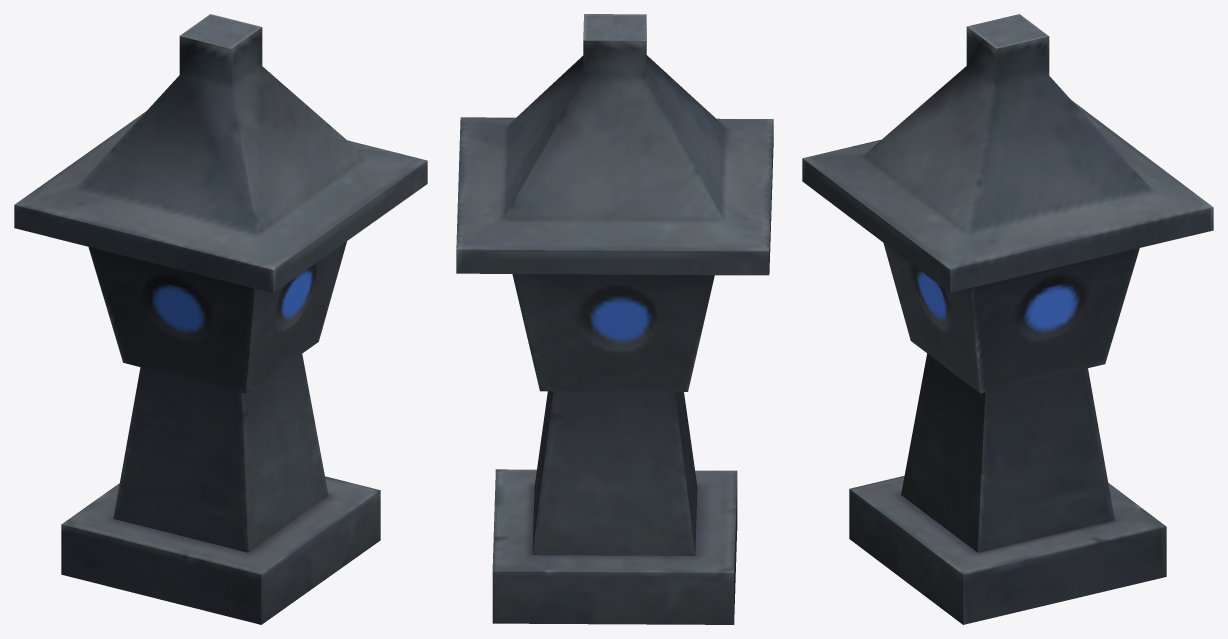
Rendered from Area_04_35.fbx.
3 renders of one model, left to right at view 1: azimuth 30°, elevation 25°; view 2: azimuth 150°, elevation 25°; view 3: azimuth 270°, elevation 25°, orthographic. The views are drawn at different scales.
Visible parts, largest first — view 1: Area_04_35; view 2: Area_04_35; view 3: Area_04_35.
Part boxes in pixels (x1,y1,x2,y2): Area_04_35: (14,14,427,624); Area_04_35: (456,14,773,624); Area_04_35: (802,14,1213,624).
Bounding box in the file's own units: 226 × 320 × 226.
